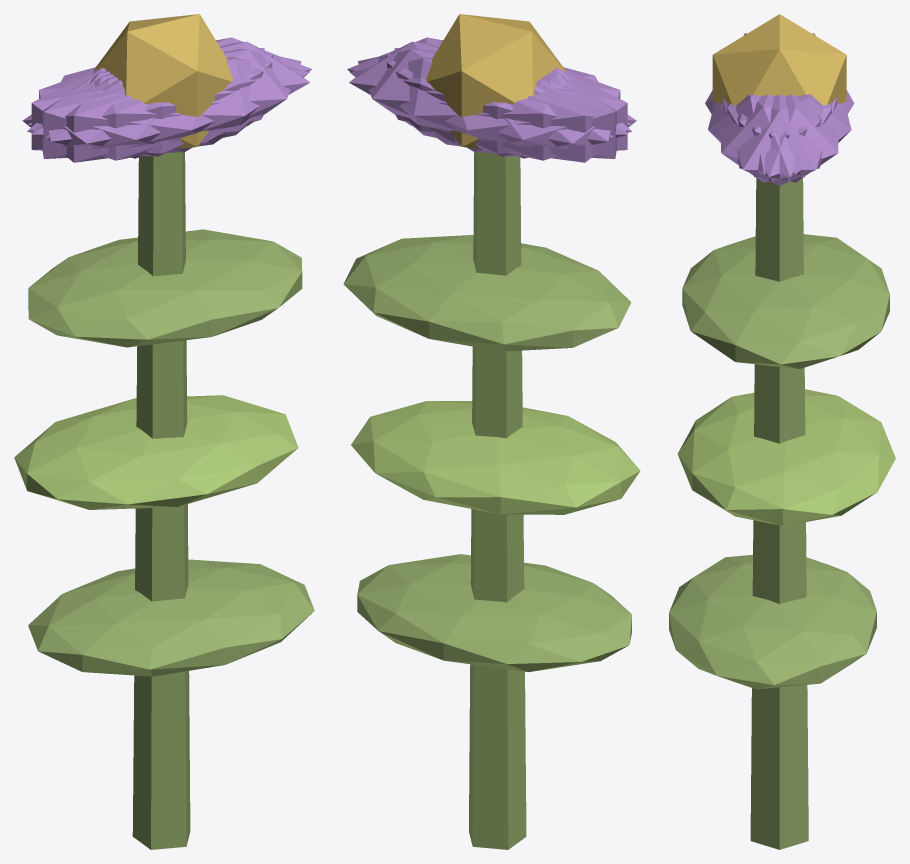
The model's file is vigna-radiata.glb.
3 renders of one model, left to right at view 1: azimuth 30°, elevation 25°; view 2: azimuth 150°, elevation 25°; view 3: azimuth 270°, elevation 25°, orthographic.
Visible parts, largest first — view 1: stem, leaf0, leaf1, leaf2, center, petal1, petal6, petal2, petal5, petal7, petal0, petal4 (+2 smaller); view 2: stem, leaf2, leaf1, leaf0, center, petal8, petal3, petal7, petal4, petal2, petal0, petal5 (+2 smaller); view 3: stem, leaf2, leaf1, leaf0, center, petal0, petal4, petal5, petal8, petal1.
Boxes of the visible parts, left/top/right/bottom form: stem: left=132, top=152, right=190, bottom=849; leaf0: left=28, top=559, right=314, bottom=676; leaf1: left=14, top=395, right=298, bottom=509; leaf2: left=28, top=229, right=302, bottom=347; center: left=93, top=14, right=232, bottom=149; petal1: left=27, top=57, right=309, bottom=160; petal6: left=22, top=69, right=226, bottom=162; petal2: left=42, top=48, right=264, bottom=158; petal5: left=46, top=49, right=301, bottom=153; petal7: left=31, top=54, right=272, bottom=156; petal0: left=93, top=41, right=309, bottom=143; petal4: left=28, top=37, right=311, bottom=134; stem: left=469, top=152, right=526, bottom=849; leaf2: left=343, top=235, right=631, bottom=351; leaf1: left=351, top=401, right=640, bottom=514; leaf0: left=357, top=554, right=631, bottom=672; center: left=426, top=14, right=565, bottom=148; petal8: left=349, top=57, right=632, bottom=160; petal3: left=432, top=69, right=636, bottom=162; petal7: left=394, top=48, right=616, bottom=158; petal4: left=357, top=49, right=612, bottom=153; petal2: left=386, top=54, right=627, bottom=156; petal0: left=349, top=41, right=565, bottom=143; petal5: left=347, top=37, right=630, bottom=134; stem: left=750, top=178, right=808, bottom=849; leaf2: left=682, top=234, right=889, bottom=369; leaf1: left=677, top=389, right=895, bottom=525; leaf0: left=669, top=554, right=876, bottom=689; center: left=712, top=14, right=846, bottom=105; petal0: left=722, top=94, right=836, bottom=185; petal4: left=727, top=94, right=838, bottom=182; petal5: left=720, top=94, right=831, bottom=182; petal8: left=737, top=94, right=851, bottom=174; petal1: left=708, top=94, right=821, bottom=174.
Bounding box in the file's own units: 0.1452 × 0.4067 × 0.1038.
